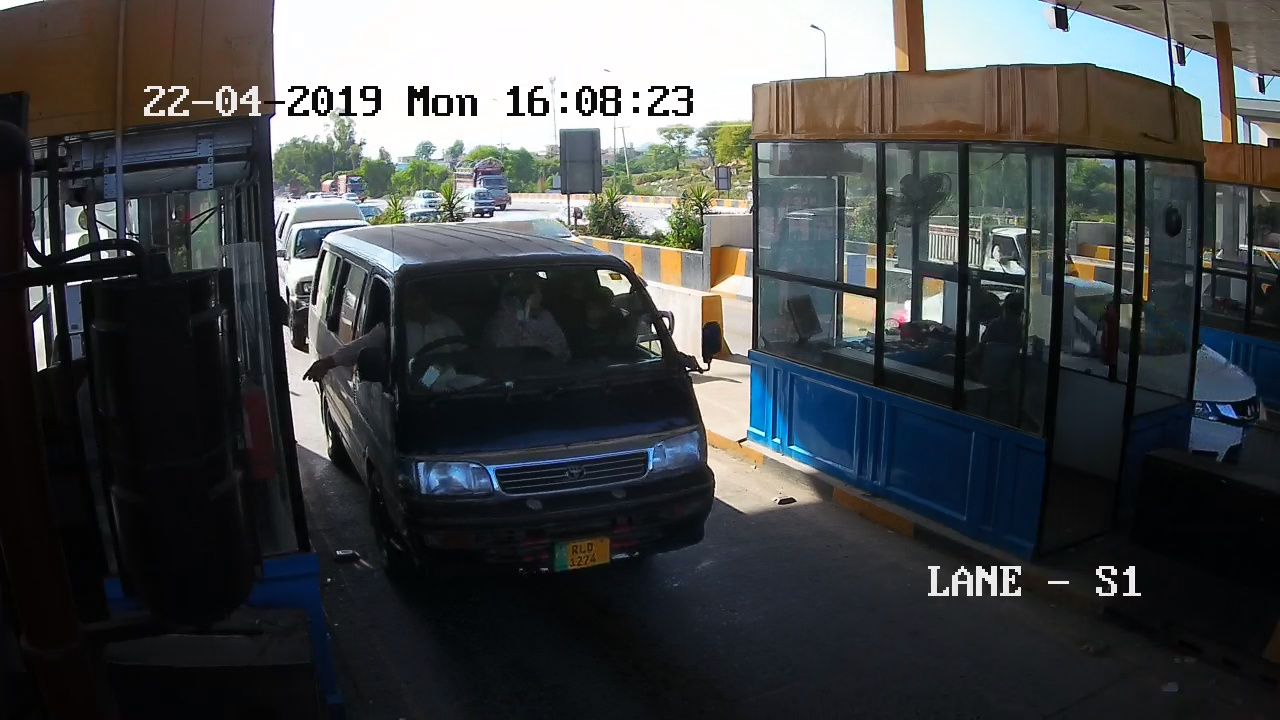Number Plate (Car): (550, 536, 613, 569)
